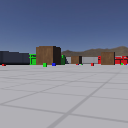blue_cube: (51, 62, 56, 66), (126, 63, 127, 65), (78, 63, 79, 65)
green_basket: (29, 53, 65, 64)
green_cube: (43, 63, 47, 67), (80, 63, 83, 65), (121, 63, 123, 65)
obstacle: (35, 45, 61, 65), (101, 51, 115, 65), (70, 55, 82, 64)
red_basket: (97, 56, 128, 65)
red_cube: (2, 63, 6, 67), (91, 63, 94, 66), (75, 63, 78, 65)
